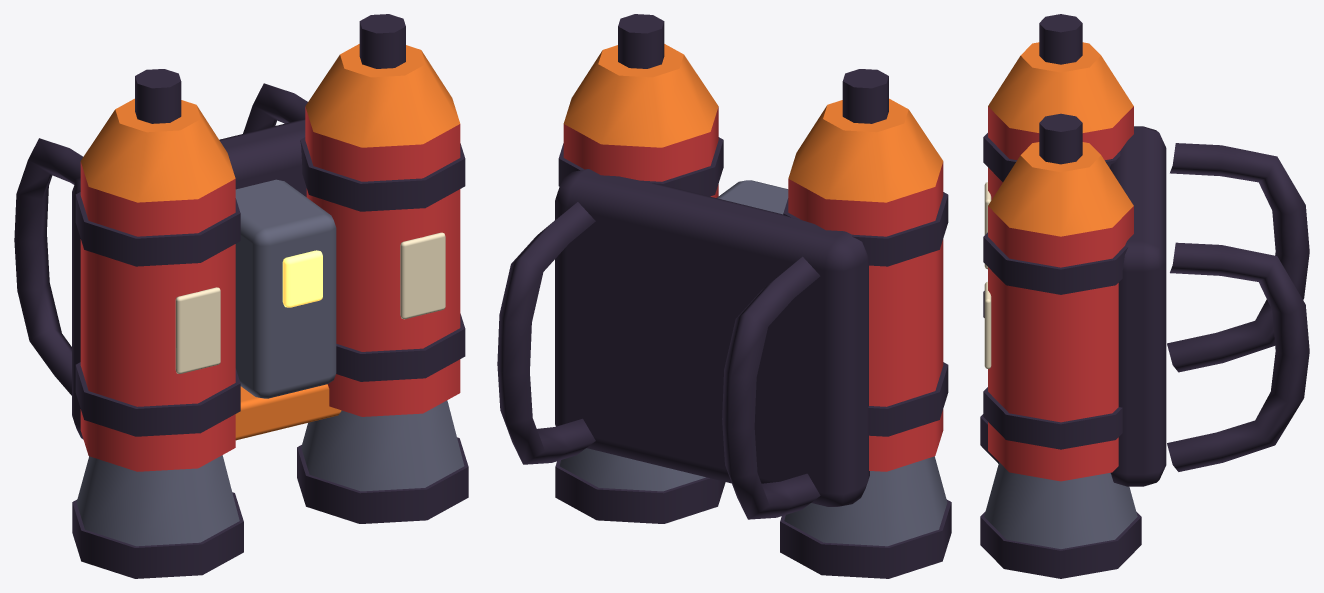
Rendered from jetpack.glb.
3 views of the same model, side by side, from view 1: azimuth 30°, elevation 25°; view 2: azimuth 150°, elevation 25°; view 3: azimuth 270°, elevation 25° (orthographic). The views are drawn at different scales.
Visible parts, largest first — view 1: left-fuel-tank, right-fuel-tank, center-control-box, left-engine, left-shoulder-cap, right-shoulder-cap, right-engine, left-shoulder-strap, harness-backplate, left-nozzle-rim, right-nozzle-rim, left-tank-brace-0.51 (+10 smaller); view 2: harness-backplate, left-fuel-tank, left-shoulder-cap, right-shoulder-cap, right-shoulder-strap, left-shoulder-strap, left-engine, left-nozzle-rim, right-nozzle-rim, right-fuel-tank, right-engine, left-tank-brace-1.06 (+5 smaller); view 3: right-fuel-tank, harness-backplate, right-shoulder-strap, left-shoulder-strap, right-engine, right-shoulder-cap, left-shoulder-cap, right-nozzle-rim, right-tank-brace-1.06, right-tank-brace-0.51, left-fuel-tank, right-valve (+3 smaller).
Boxes of the visible parts, x1,y1,x2,y2 form: left-fuel-tank: (80, 162, 235, 471); right-fuel-tank: (305, 107, 460, 416); center-control-box: (235, 179, 336, 398); left-engine: (76, 455, 239, 546); left-shoulder-cap: (80, 98, 235, 202); right-shoulder-cap: (305, 44, 460, 147); right-engine: (301, 400, 464, 491); left-shoulder-strap: (14, 138, 82, 395); harness-backplate: (72, 119, 306, 439); left-nozzle-rim: (72, 492, 243, 578); right-nozzle-rim: (297, 437, 468, 523); left-tank-brace-0.51: (75, 362, 240, 436); harness-backplate: (555, 169, 869, 506); left-fuel-tank: (788, 162, 943, 471); left-shoulder-cap: (788, 98, 943, 202); right-shoulder-cap: (563, 44, 718, 147); right-shoulder-strap: (497, 202, 595, 464); left-shoulder-strap: (722, 256, 820, 519); left-engine: (784, 456, 947, 546); left-nozzle-rim: (780, 499, 951, 578); right-nozzle-rim: (555, 460, 725, 523); right-fuel-tank: (563, 107, 718, 197); right-engine: (559, 448, 705, 491); left-tank-brace-1.06: (783, 192, 948, 266); right-fuel-tank: (988, 206, 1133, 481); harness-backplate: (1109, 126, 1166, 486); right-shoulder-strap: (1167, 242, 1309, 471); left-shoulder-strap: (1167, 143, 1309, 372); right-engine: (984, 462, 1137, 548); right-shoulder-cap: (988, 142, 1133, 236); left-shoulder-cap: (988, 42, 1133, 132); right-nozzle-rim: (980, 511, 1141, 578); right-tank-brace-1.06: (983, 232, 1127, 294); right-tank-brace-0.51: (983, 387, 1122, 449); left-fuel-tank: (988, 106, 1133, 199); right-valve: (1039, 113, 1082, 164).
Bounding box in the file's own units: 1.28 × 1.52 × 1.06.
